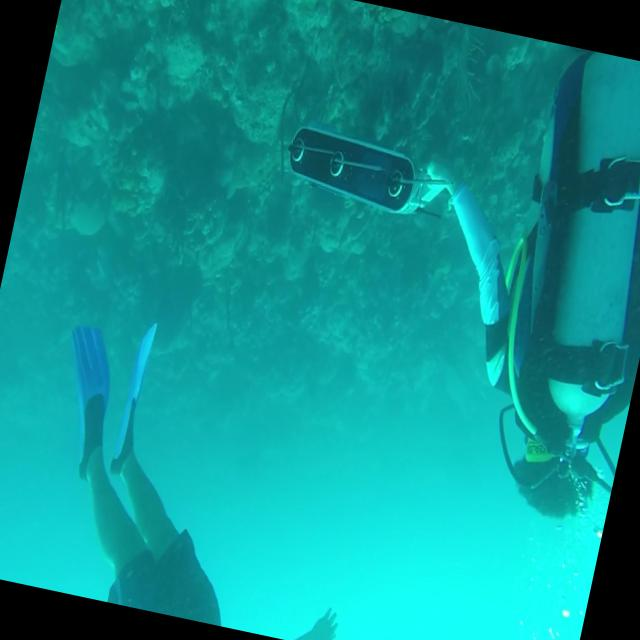human: (223, 0, 640, 531), (17, 305, 391, 640)
